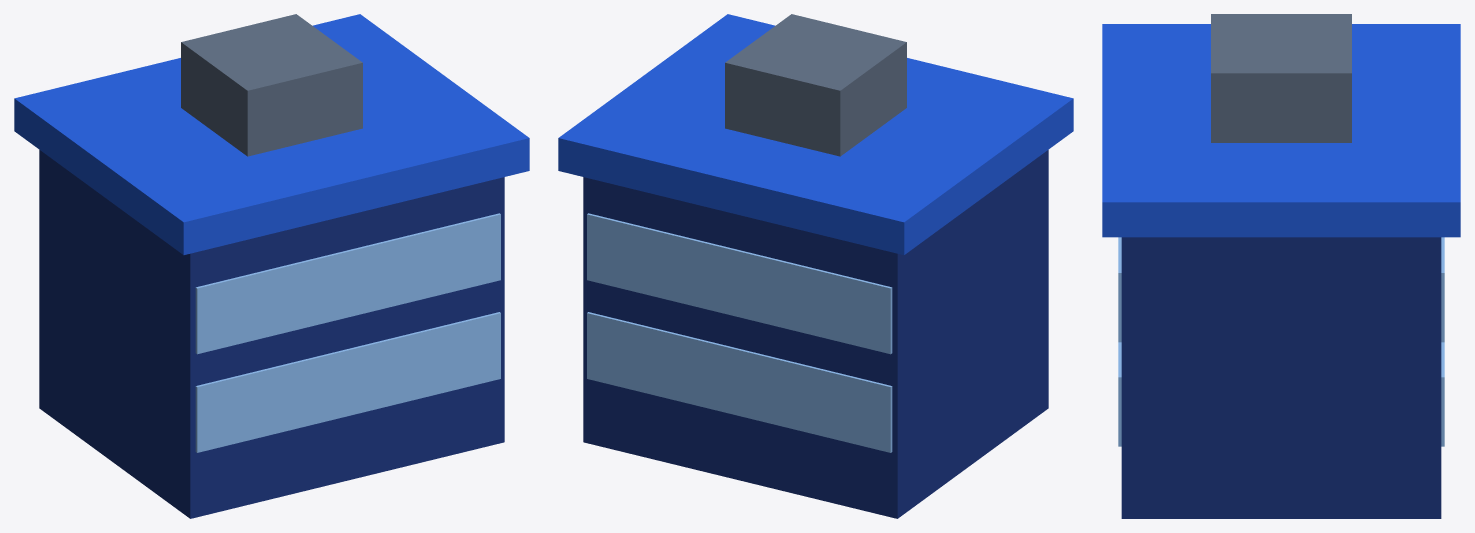
File: building.glb
3 renders of one model, left to right at view 1: azimuth 30°, elevation 25°; view 2: azimuth 150°, elevation 25°; view 3: azimuth 270°, elevation 25°, orthographic. The views are drawn at different scales.
Visible parts, largest first — view 1: BuildingModel; view 2: BuildingModel; view 3: BuildingModel.
Boxes of the visible parts, x1,y1,x2,y2 form: BuildingModel: (14,14,529,518); BuildingModel: (558,14,1073,518); BuildingModel: (1102,14,1460,518).
Bounding box in the file's own units: 6.6 × 6.8 × 5.6.
